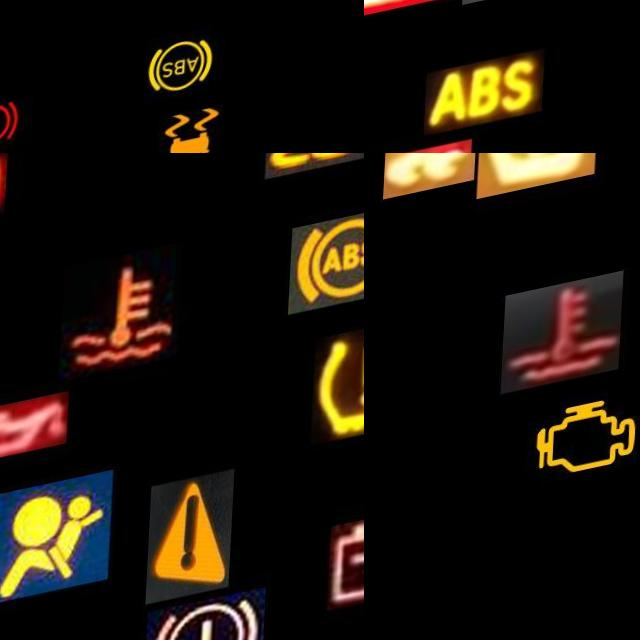Central Warning lamp: (151, 486, 239, 618)
Engine cooling system: (62, 256, 184, 391), (506, 296, 628, 414), (463, 0, 581, 23)
